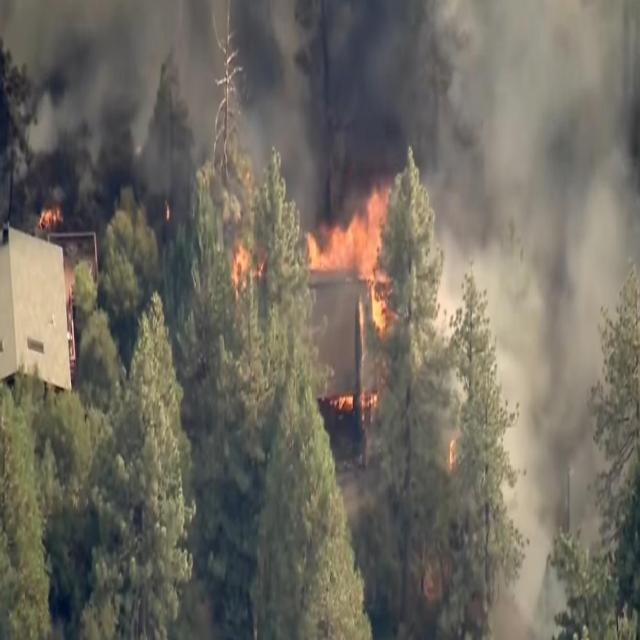Fire: (300, 178, 381, 331), (331, 388, 378, 419), (234, 243, 254, 299), (39, 205, 64, 234)
Smoke: (506, 33, 605, 617)
